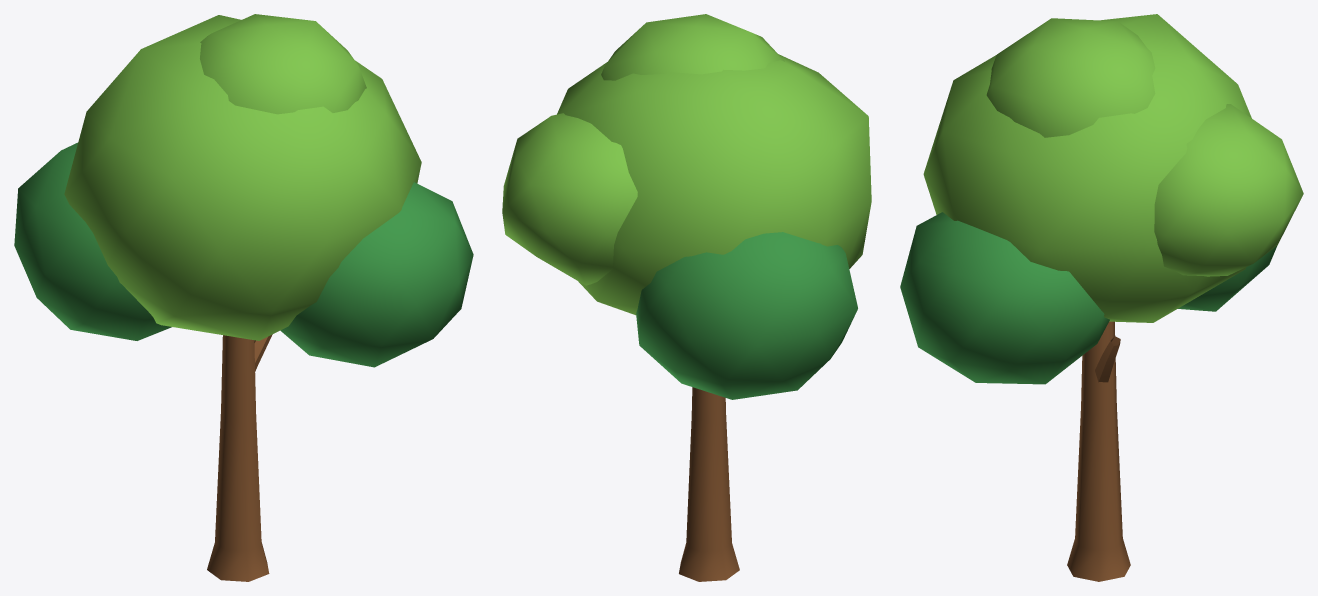
The model's file is Arbol.fbx.
3 views of the same model, side by side, from view 1: azimuth 30°, elevation 25°; view 2: azimuth 150°, elevation 25°; view 3: azimuth 270°, elevation 25° (orthographic). The views are drawn at different scales.
Parts seen in each view (by area): view 1: Arbol; view 2: Arbol; view 3: Arbol.
Boxes of the visible parts, left/top/right/bottom form: Arbol: left=14, top=14, right=473, bottom=581; Arbol: left=502, top=14, right=871, bottom=581; Arbol: left=900, top=14, right=1303, bottom=581.
Size of the model in its own units: 6 by 9 by 6.
Materials: 1 (1 with a texture image).
